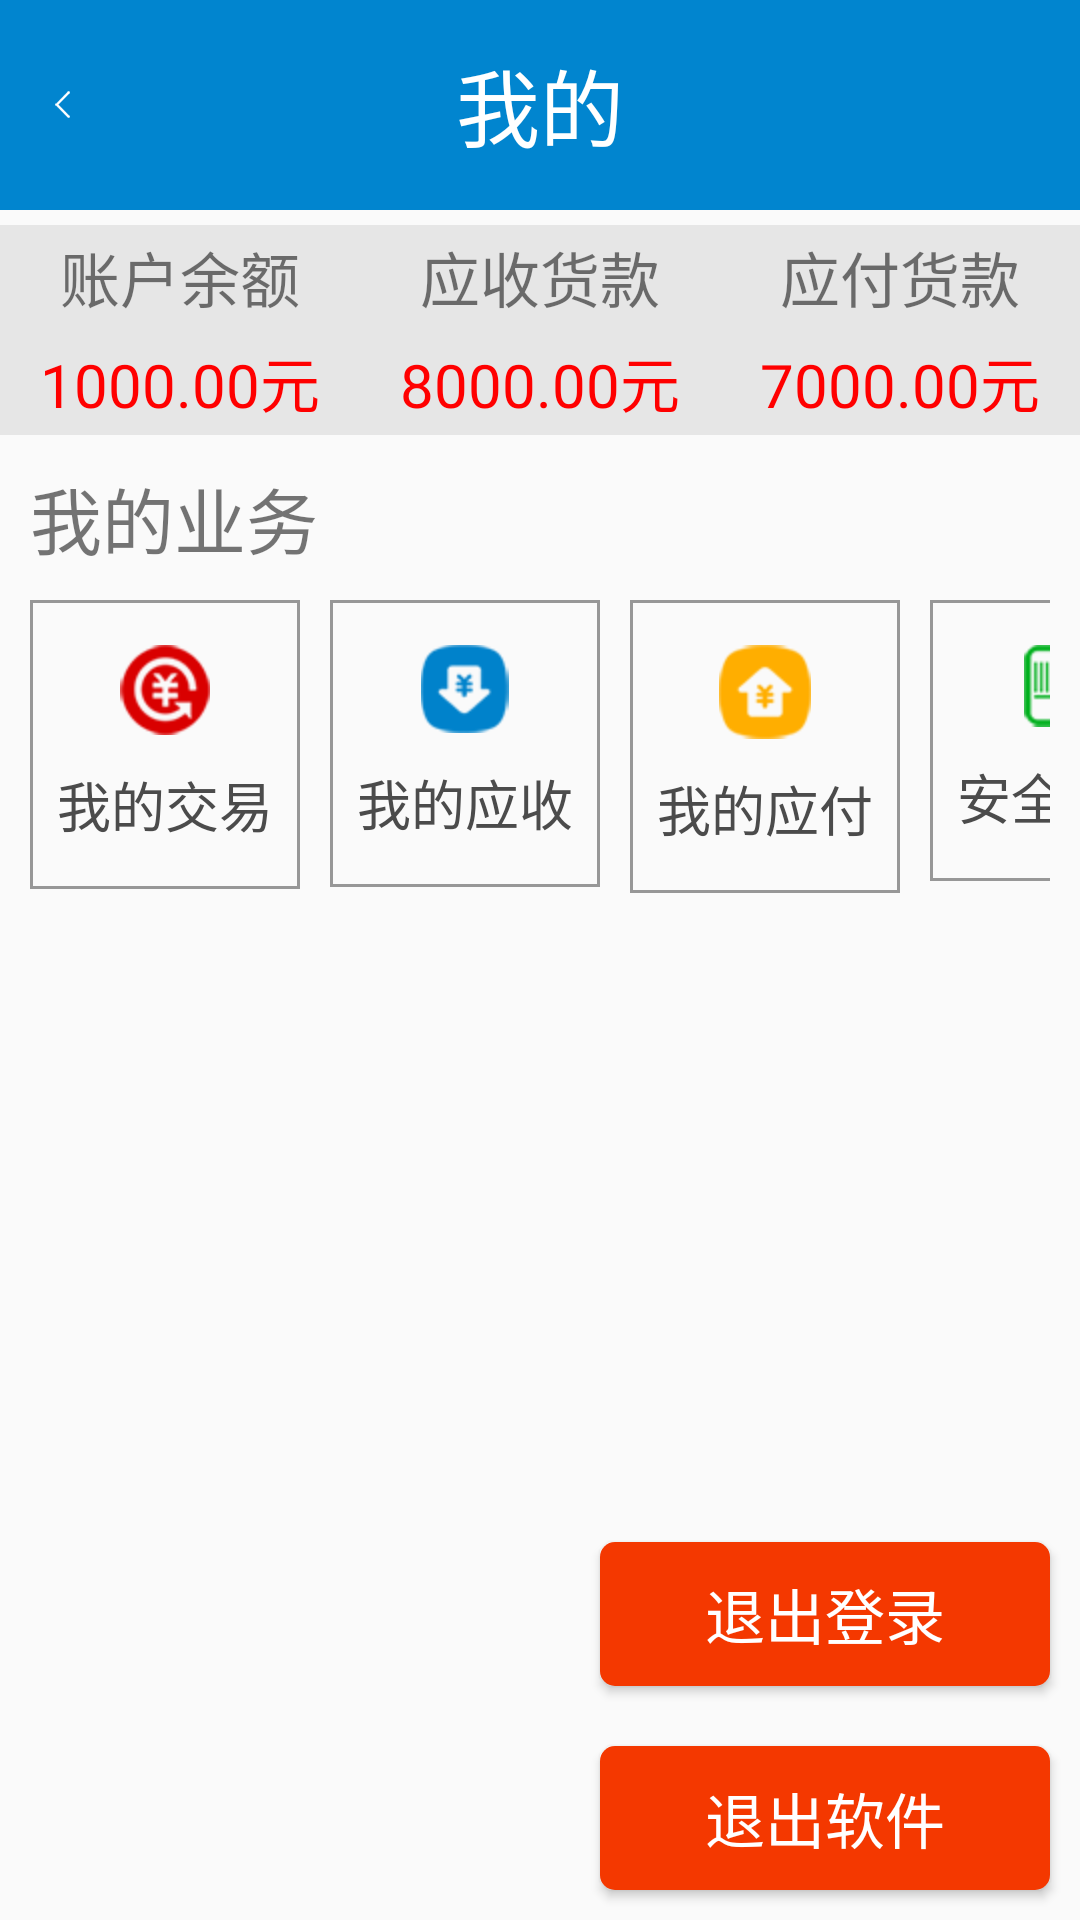

Where icons sit on this 1080 × 1920 app screen, as Rect(x1, y1, x2, y2):
back: Rect(55, 91, 70, 118)
